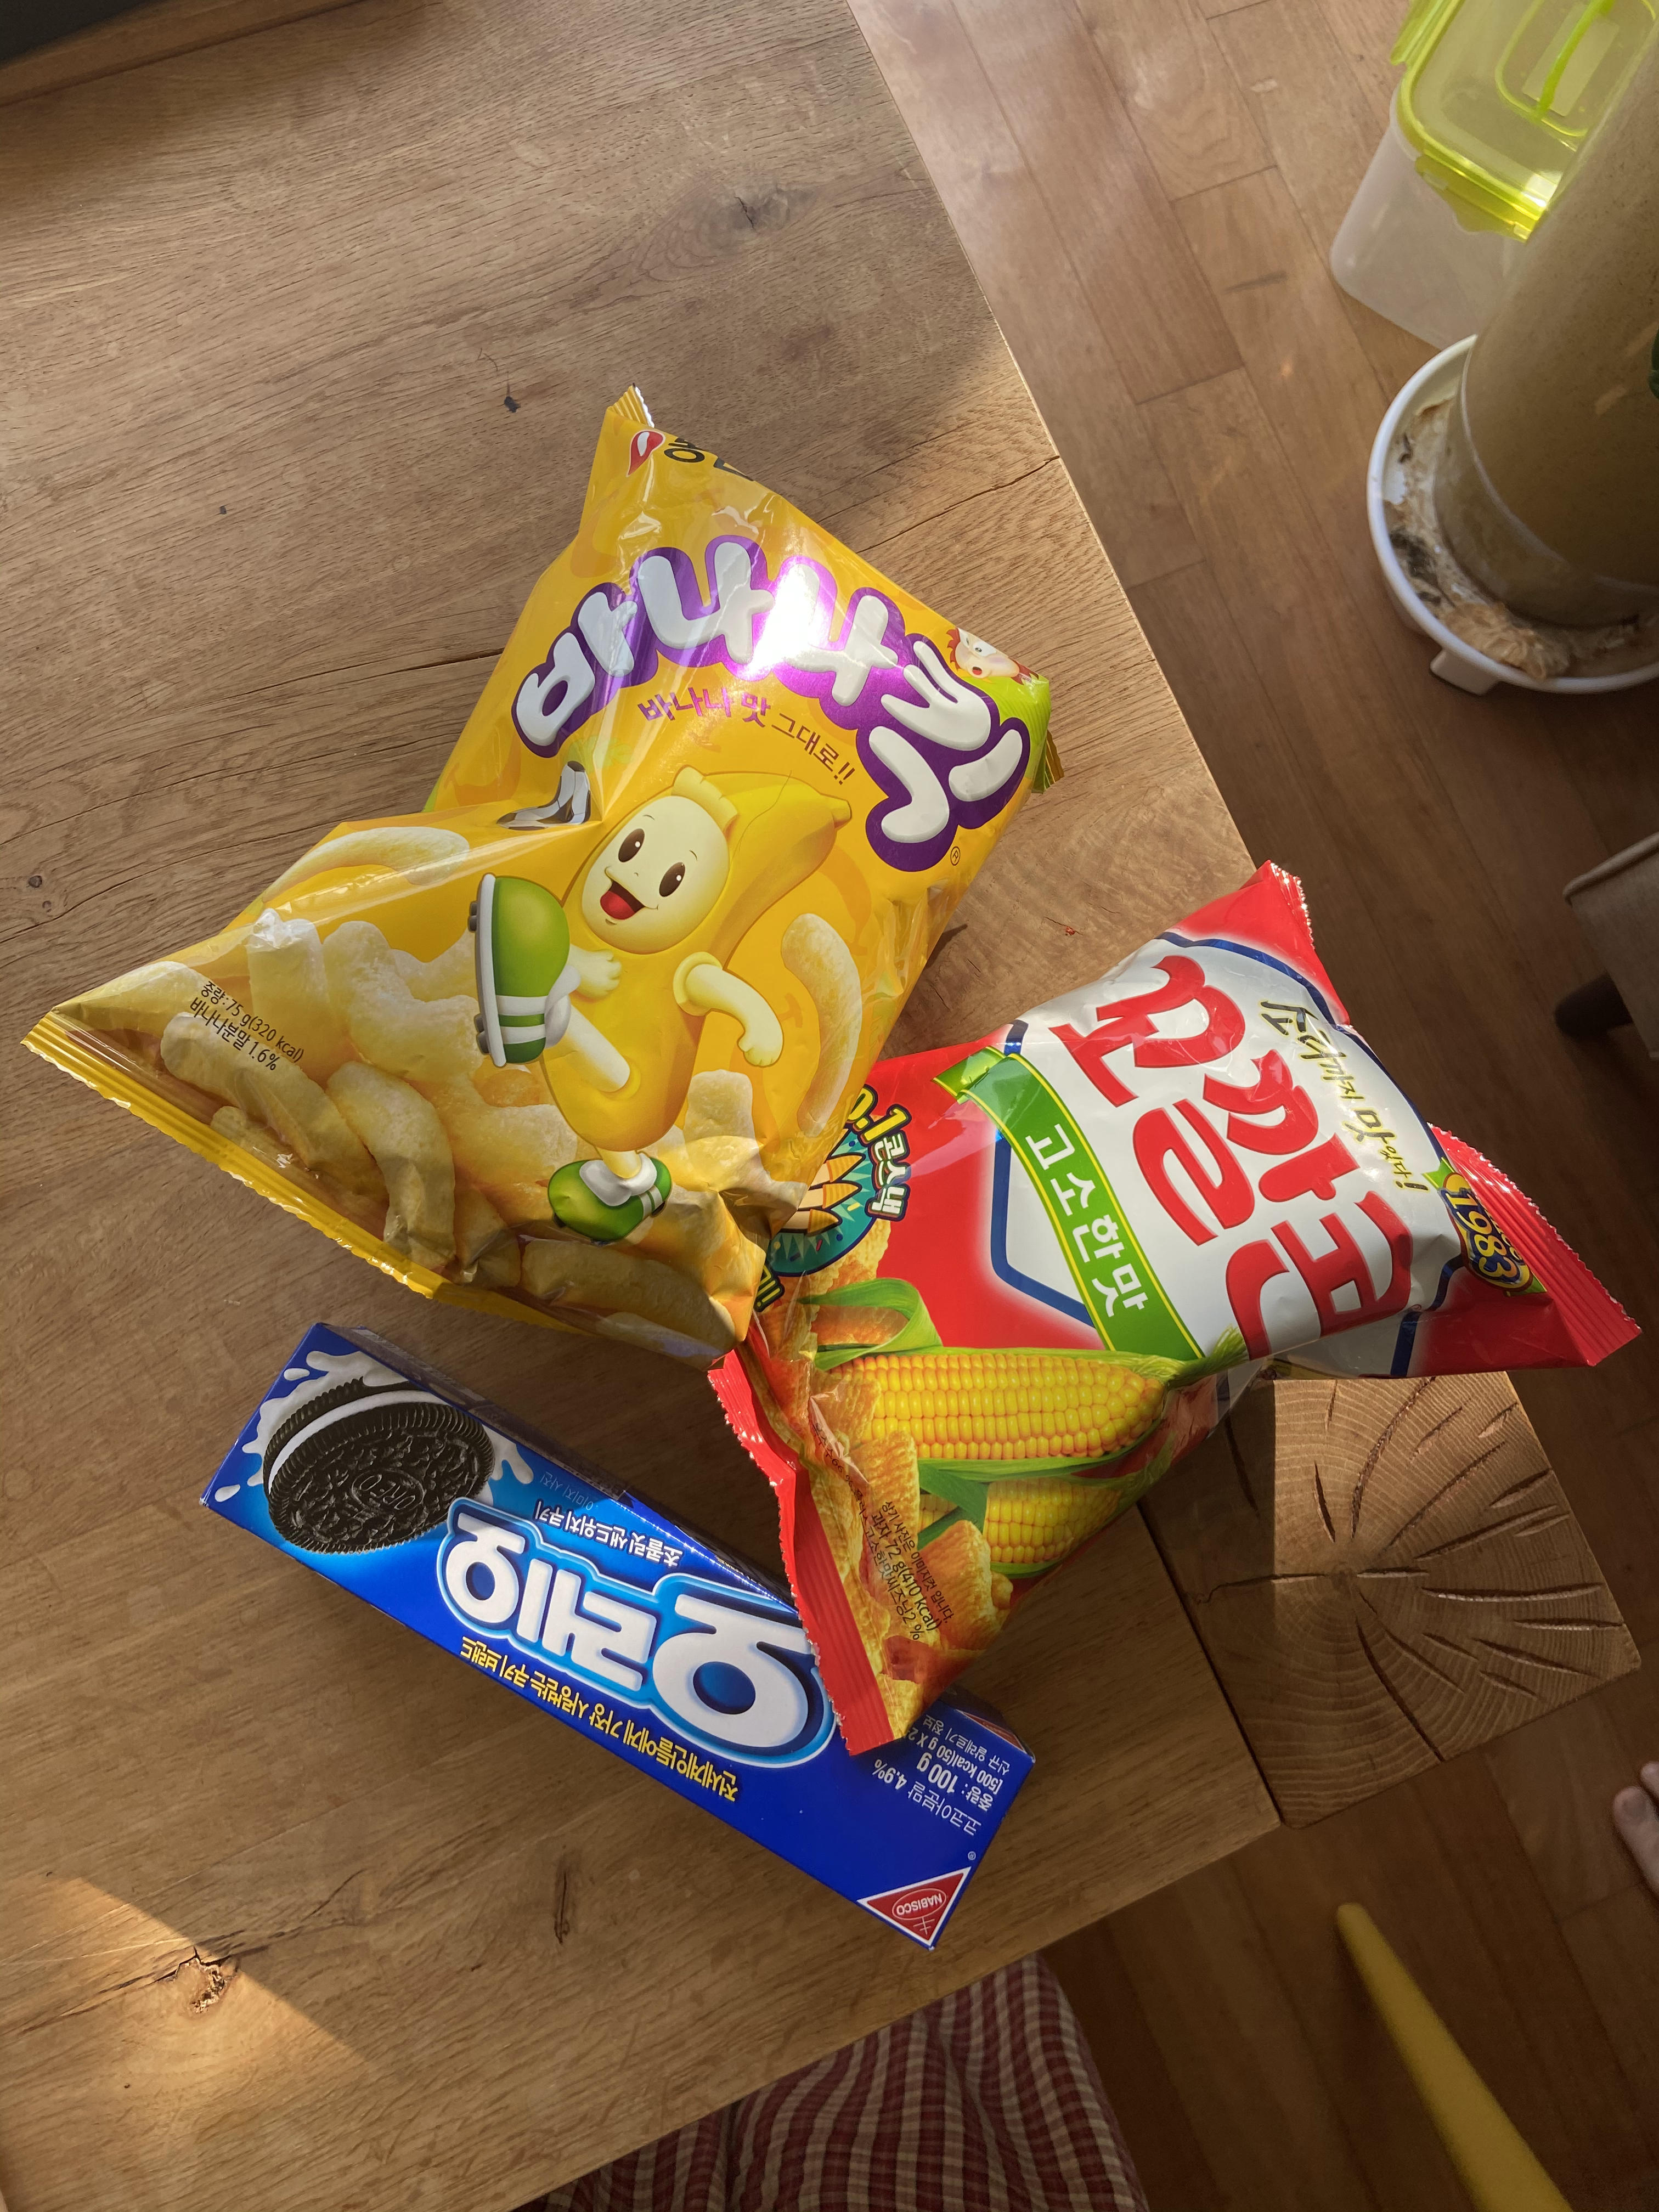banana: (5, 348, 1070, 1376)
ggoggalcon: (617, 803, 1659, 1764)
oreo: (179, 1289, 1068, 1975)
